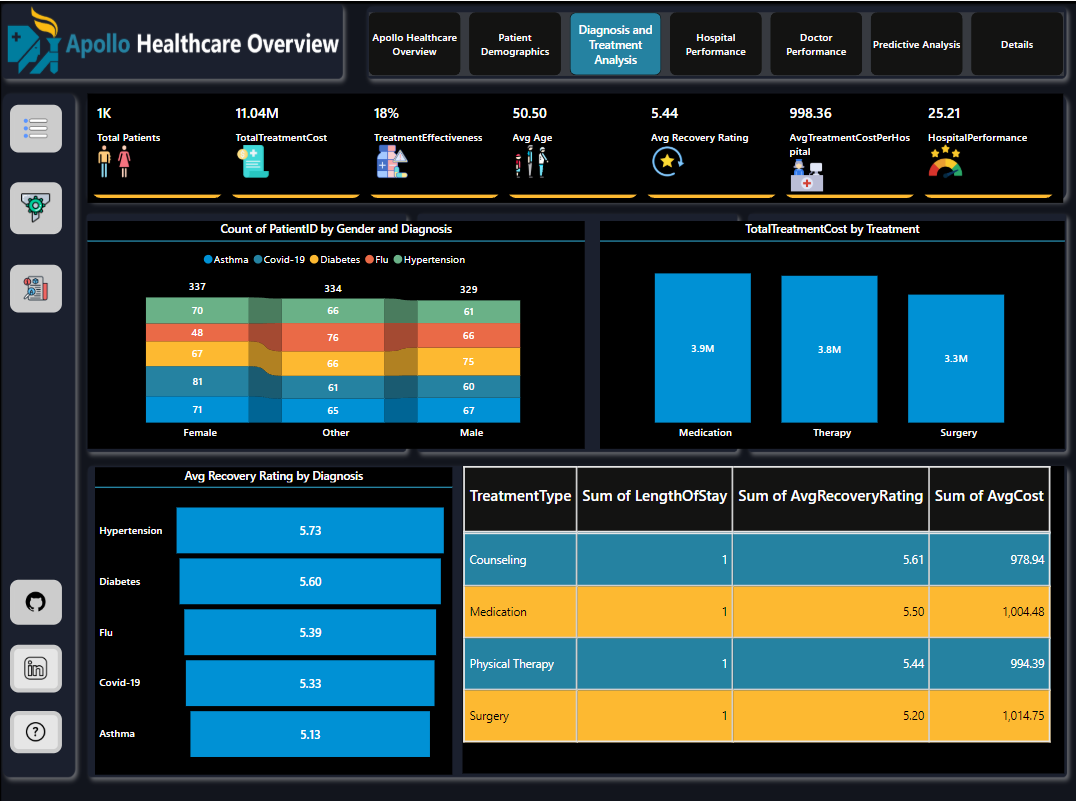

What the dashboard file says about the page in this screenshot:
{"tool":"powerbi","page":{"name":"Diagnosis and Treatment Analysis","canvas":[1245,934],"ordinal":2},"visuals":[{"type":"image","box":[11,120.5,60,55],"z":0,"group":"g1"},{"type":"columnChart","fields":{"Category":["Healthcare 1.Gender"],"Y":["CountNonNull(Healthcare 1.PatientID)"],"Series":["Healthcare 1.Diagnosis"]},"box":[101.7,253.5,574.4,262.9],"z":0},{"type":"image","box":[11,210.3,59.9,59.9],"z":1000,"group":"g1"},{"type":"columnChart","fields":{"Category":["Healthcare 1.Treatment"],"Y":["All Measures.TotalTreatmentCost"]},"box":[693.3,253.5,536.8,262.9],"z":1000},{"type":"image","box":[11,305.1,59.9,55],"z":2000,"group":"g1"},{"type":"funnel","fields":{"Category":["Healthcare 1.Diagnosis"],"Y":["All Measures.Avg Recovery Rating"]},"box":[109.6,538.4,413.2,355.3],"z":2000},{"type":"group","id":"g1","title":"Menu Bar","box":[11,120.5,61,749.6],"z":3000},{"type":"image","box":[11,743.8,59.9,55],"z":3000,"group":"g1"},{"type":"cardVisual","fields":{"Data":["All Measures.Total Patients","All Measures.TotalTreatmentCost","All Measures.TreatmentEffectiveness","All Measures.Avg Age","All Measures.Avg Recovery Rating","All Measures.AvgTreatmentCostPerHospital","All Measures.HospitalPerformance"]},"box":[101.7,106.4,1126.8,126.8],"z":4000},{"type":"image","box":[11,669.3,59.9,51.8],"z":4000,"group":"g1"},{"type":"pageNavigator","box":[425.7,12.5,802.9,73.6],"z":5000},{"type":"image","box":[11,821.5,59.9,48.6],"z":5000,"group":"g1"},{"type":"tableEx","fields":{"Values":["TreatmentTypeEffectiveness.TreatmentType","Sum(TreatmentTypeEffectiveness.LengthOfStay)","Sum(TreatmentTypeEffectiveness.AvgRecoveryRating)","Sum(TreatmentTypeEffectiveness.AvgCost)"]},"box":[534.5,537.6,694.8,355.3],"z":6000}]}

Visuals, with their boxes on the page's 1245x934 design canvas (x1, y1, x2, y2). These are canvas units, not pixel positions in the 1076x801 screenshot, which may show the page scaled, cropped or inside an application window:
image: Rect(11, 120, 71, 176)
columnChart - Healthcare 1.Gender x CountNonNull(Healthcare 1.PatientID): Rect(102, 254, 676, 516)
image: Rect(11, 210, 71, 270)
columnChart - Healthcare 1.Treatment x All Measures.TotalTreatmentCost: Rect(693, 254, 1230, 516)
image: Rect(11, 305, 71, 360)
funnel - Healthcare 1.Diagnosis x All Measures.Avg Recovery Rating: Rect(110, 538, 523, 894)
"Menu Bar" group: Rect(11, 120, 72, 870)
image: Rect(11, 744, 71, 799)
cardVisual - All Measures.Total Patients x All Measures.TotalTreatmentCost: Rect(102, 106, 1228, 233)
image: Rect(11, 669, 71, 721)
pageNavigator: Rect(426, 12, 1229, 86)
image: Rect(11, 822, 71, 870)
tableEx - TreatmentTypeEffectiveness.TreatmentType x Sum(TreatmentTypeEffectiveness.LengthOfStay): Rect(534, 538, 1229, 893)
